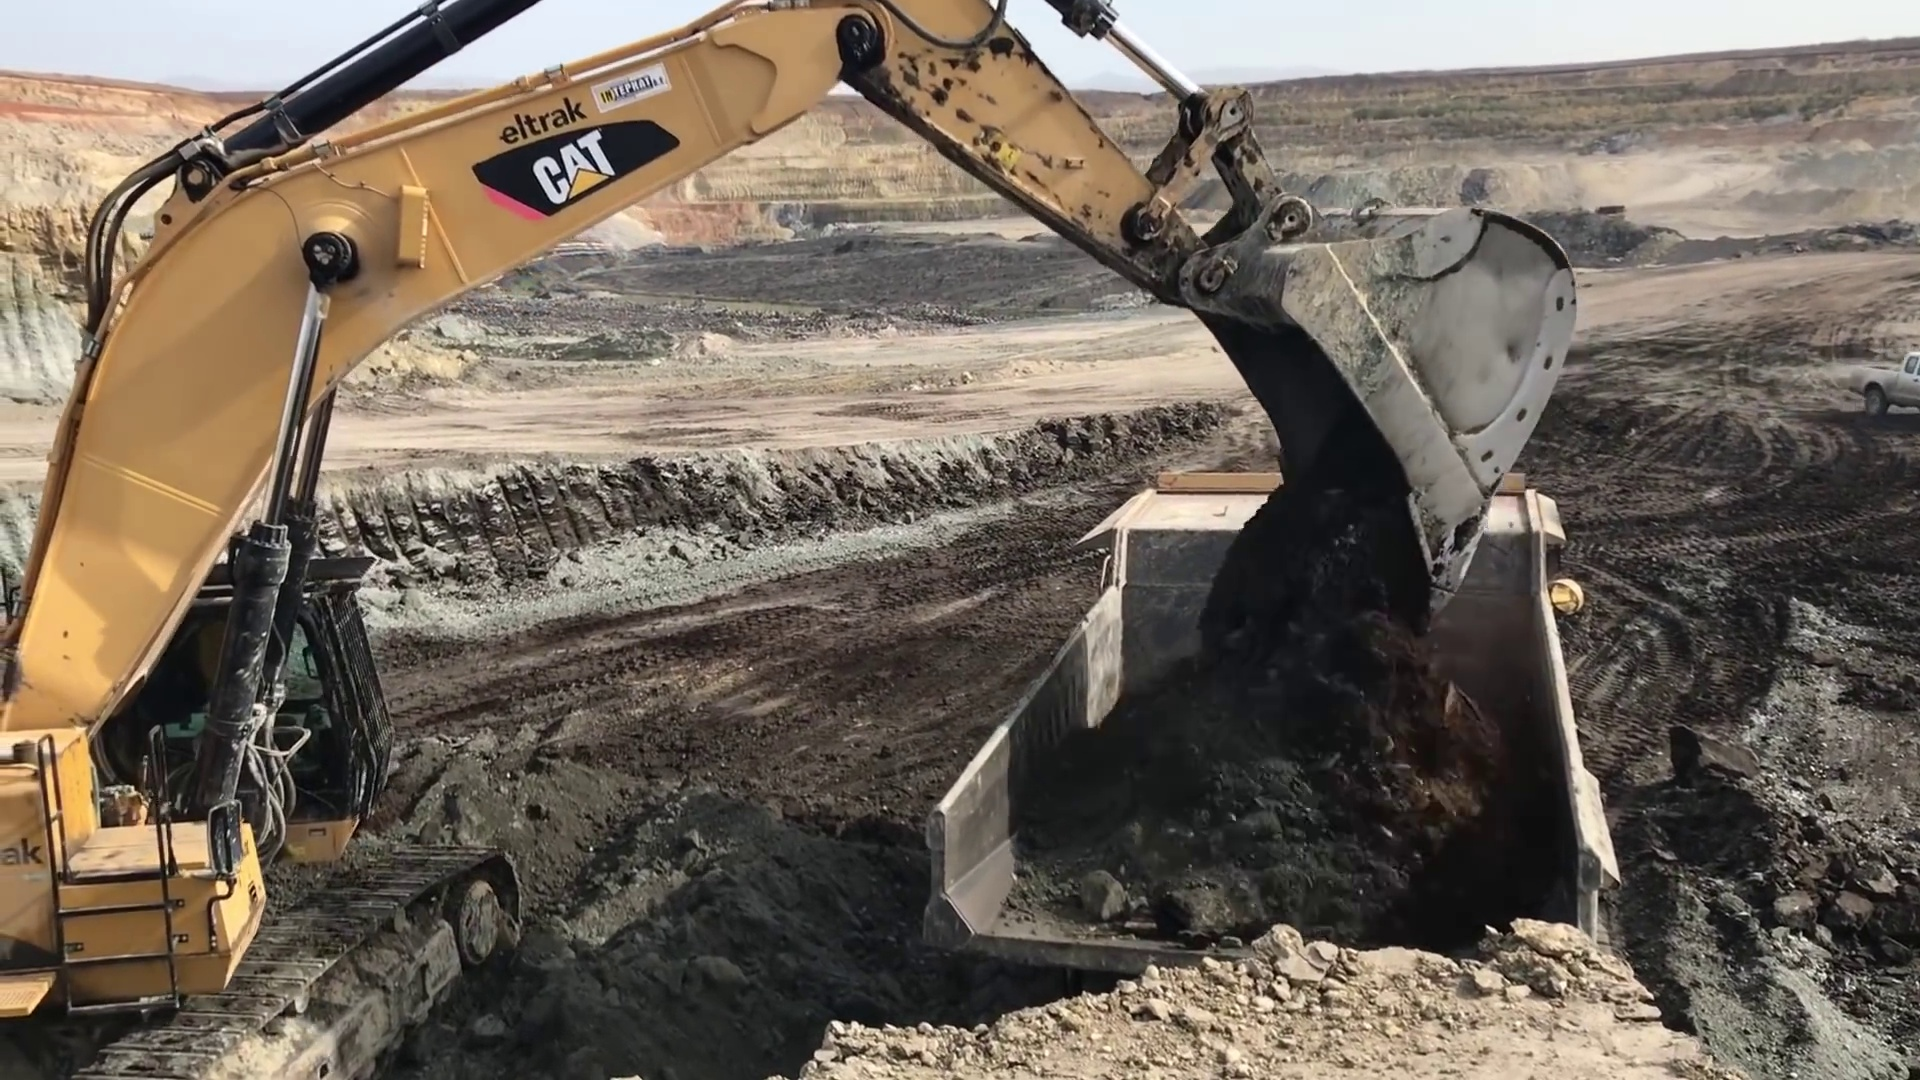dumper: (916, 469, 1633, 997)
excavator: (5, 3, 1580, 1080)
